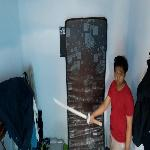Pedang: (49, 89, 104, 129)
